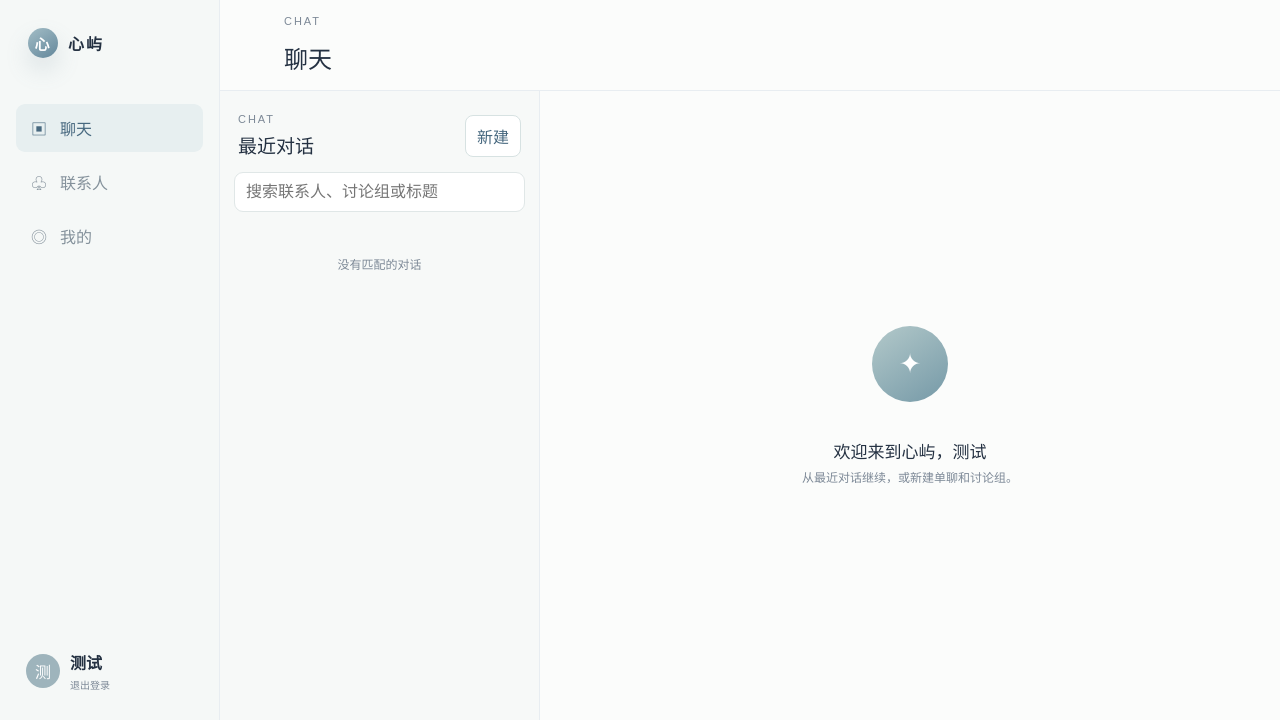
Scenario: HomePage logout › clears the deleted session without logout and shows one short anonymous success notice
Click the button "◎ 我的". click: [110, 236]
box: [16,212,203,260]
(page scrolled)
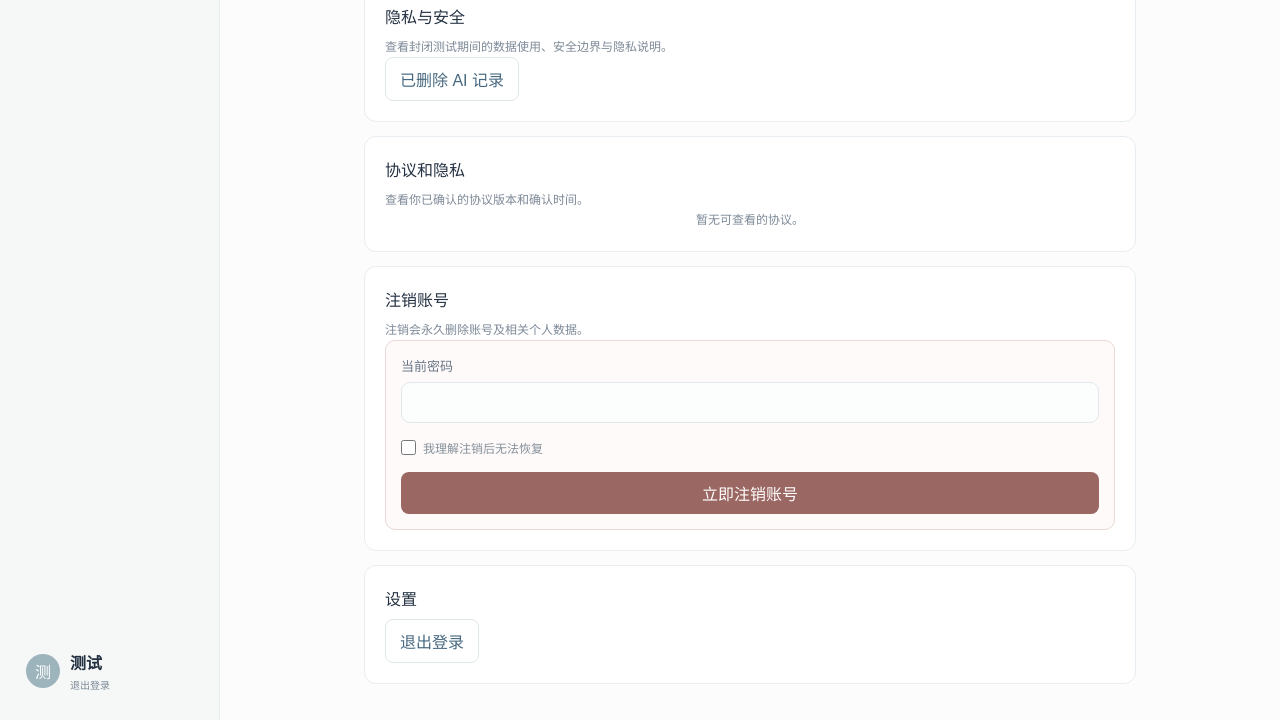
Type "password123" into the password field labelled "当前密码". click: [750, 403]
box: [401,382,1099,423]
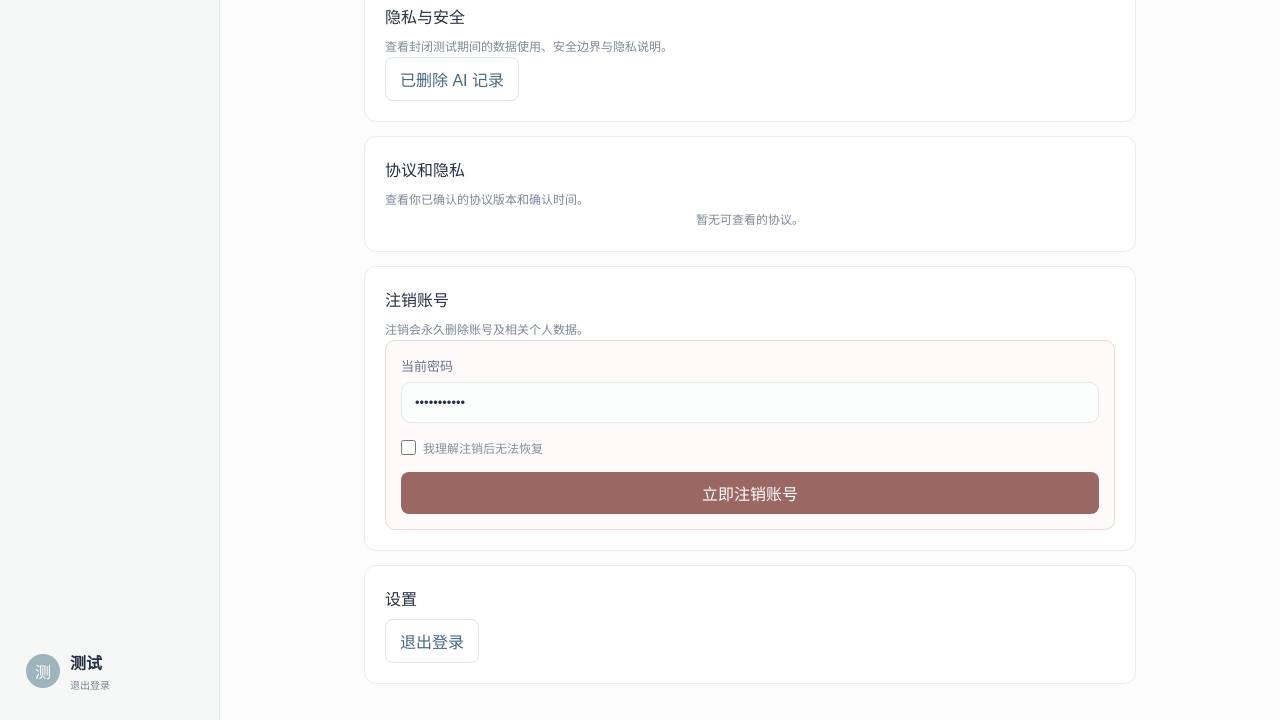
Click the checkbox labelled "我理解注销后无法恢复". click: [408, 448]
box: [401,440,416,455]
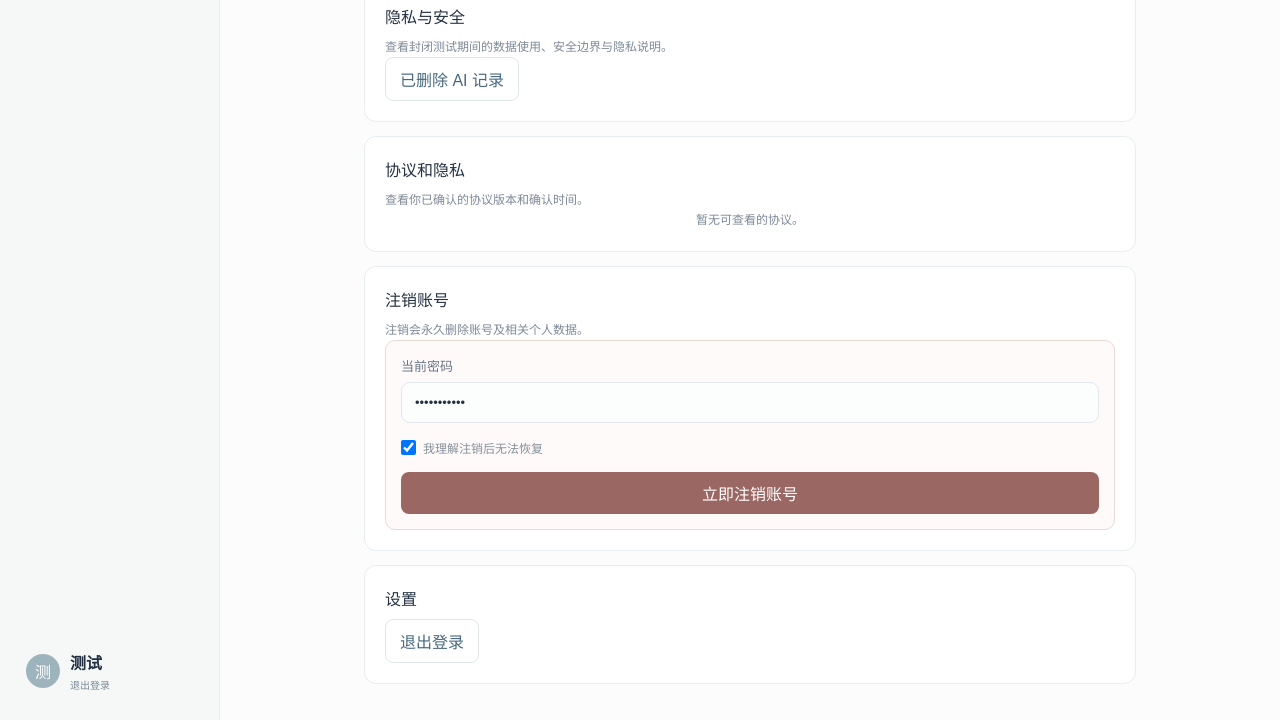
Click the button "立即注销账号". click: [750, 493]
box: [401,472,1099,514]
(page scrolled)
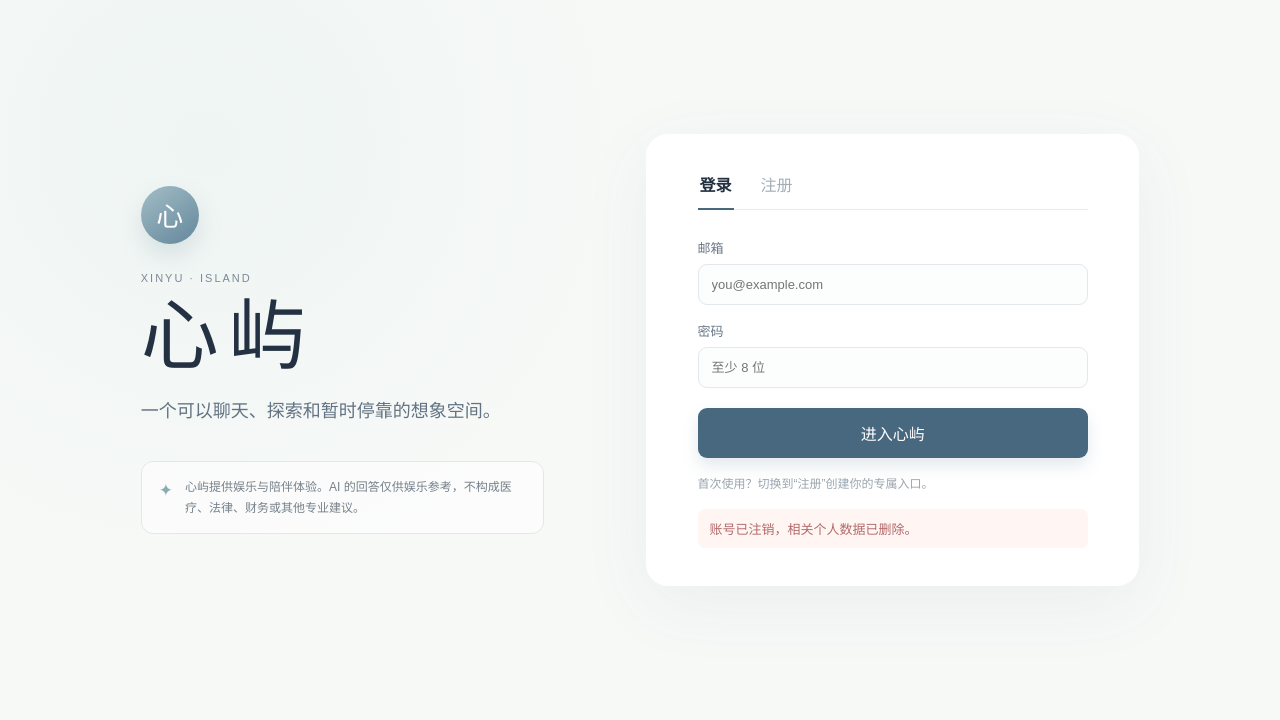
Result: the button "进入心屿" is shown at [698,408,1088,458]
Result: the text "账号已注销，相关个人数据已删除。" is shown once at [698,509,1088,548]
